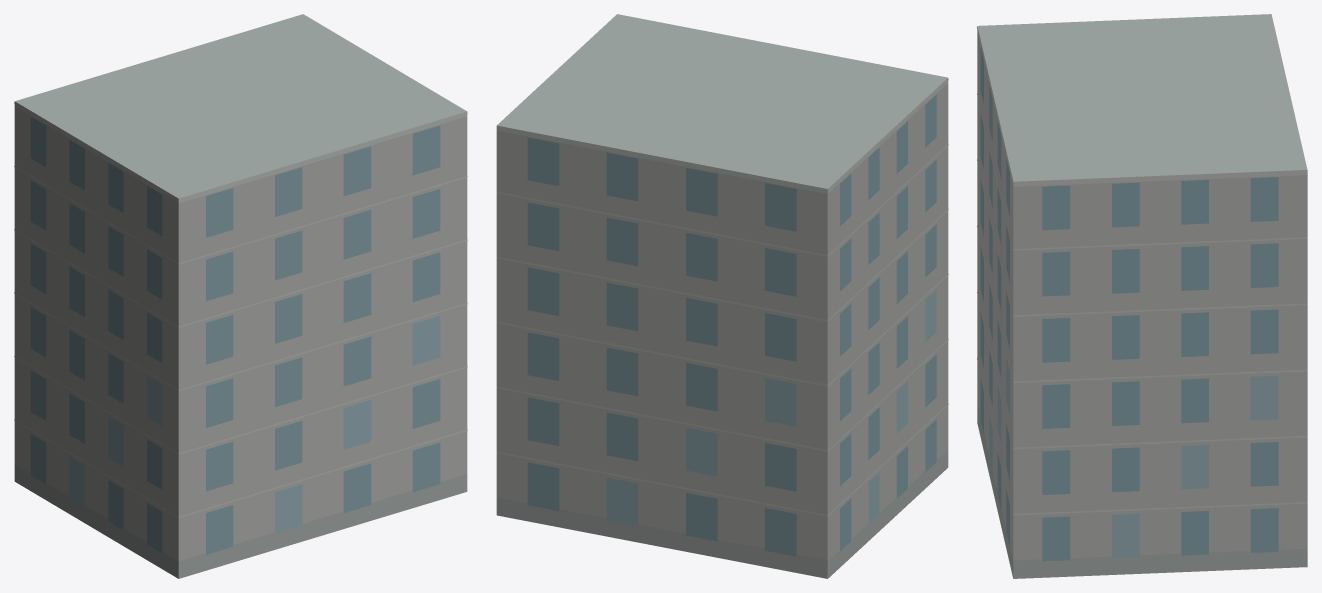
The model's file is survey-upis-32633202.glb.
3 views of the same model, side by side, from view 1: azimuth 30°, elevation 25°; view 2: azimuth 150°, elevation 25°; view 3: azimuth 270°, elevation 25° (orthographic). The views are drawn at different scales.
Parts seen in each view (by area): view 1: survey-upis-32633202.tmp; view 2: survey-upis-32633202.tmp; view 3: survey-upis-32633202.tmp.
Part boxes in pixels (x1=…): survey-upis-32633202.tmp: x1=14, y1=14, x2=467, y2=578; survey-upis-32633202.tmp: x1=496, y1=14, x2=948, y2=578; survey-upis-32633202.tmp: x1=977, y1=14, x2=1307, y2=578.
Size of the model in its own units: 17.05 by 18.8 by 14.19.
